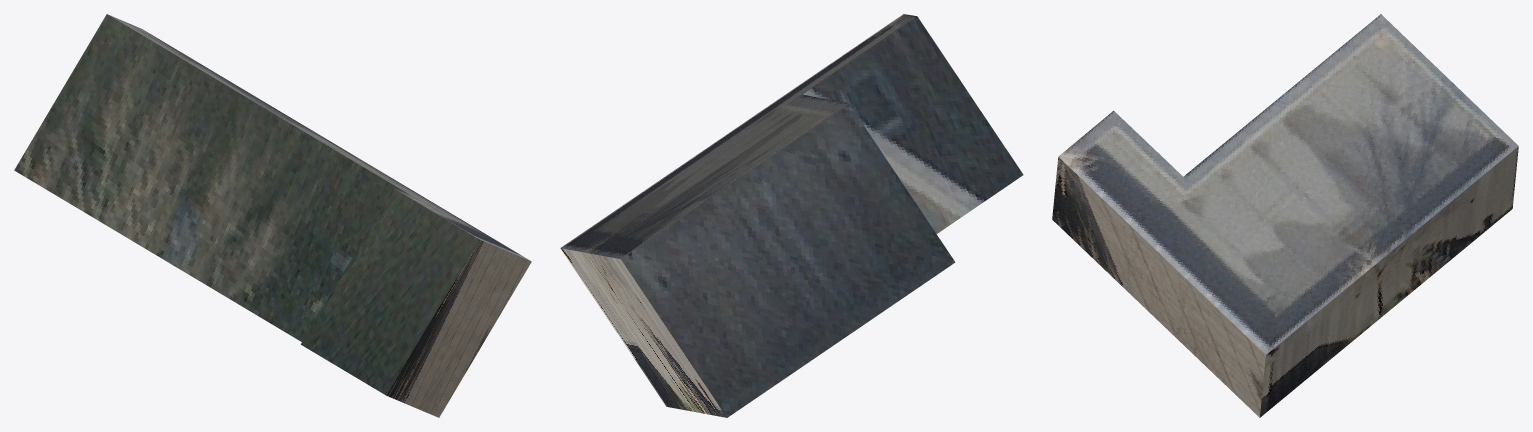
3 renders of one model, left to right at view 1: azimuth 30°, elevation 25°; view 2: azimuth 150°, elevation 25°; view 3: azimuth 270°, elevation 25°, orthographic. The views are drawn at different scales.
Visible parts, largest first — view 1: BAG_0599100110026388; view 2: BAG_0599100110026388; view 3: BAG_0599100110026388.
Part boxes in pixels (x1,y1,x2,y2): BAG_0599100110026388: [14, 14, 531, 417]; BAG_0599100110026388: [560, 14, 1023, 417]; BAG_0599100110026388: [1052, 14, 1518, 417].
Bounding box in the file's own units: 7.73 × 6.75 × 9.2.
Materials: 1 (1 with a texture image).
